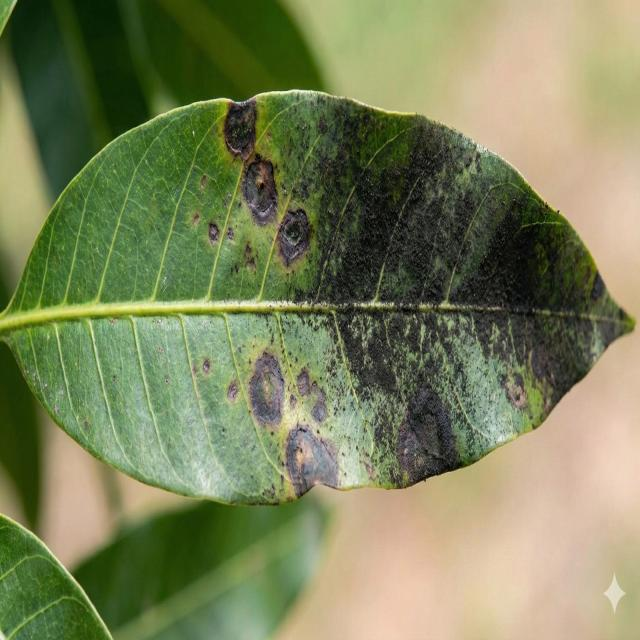Anthracnose: (247, 333, 339, 498), (219, 103, 317, 250)
black die: (350, 127, 437, 288), (398, 357, 461, 465)
